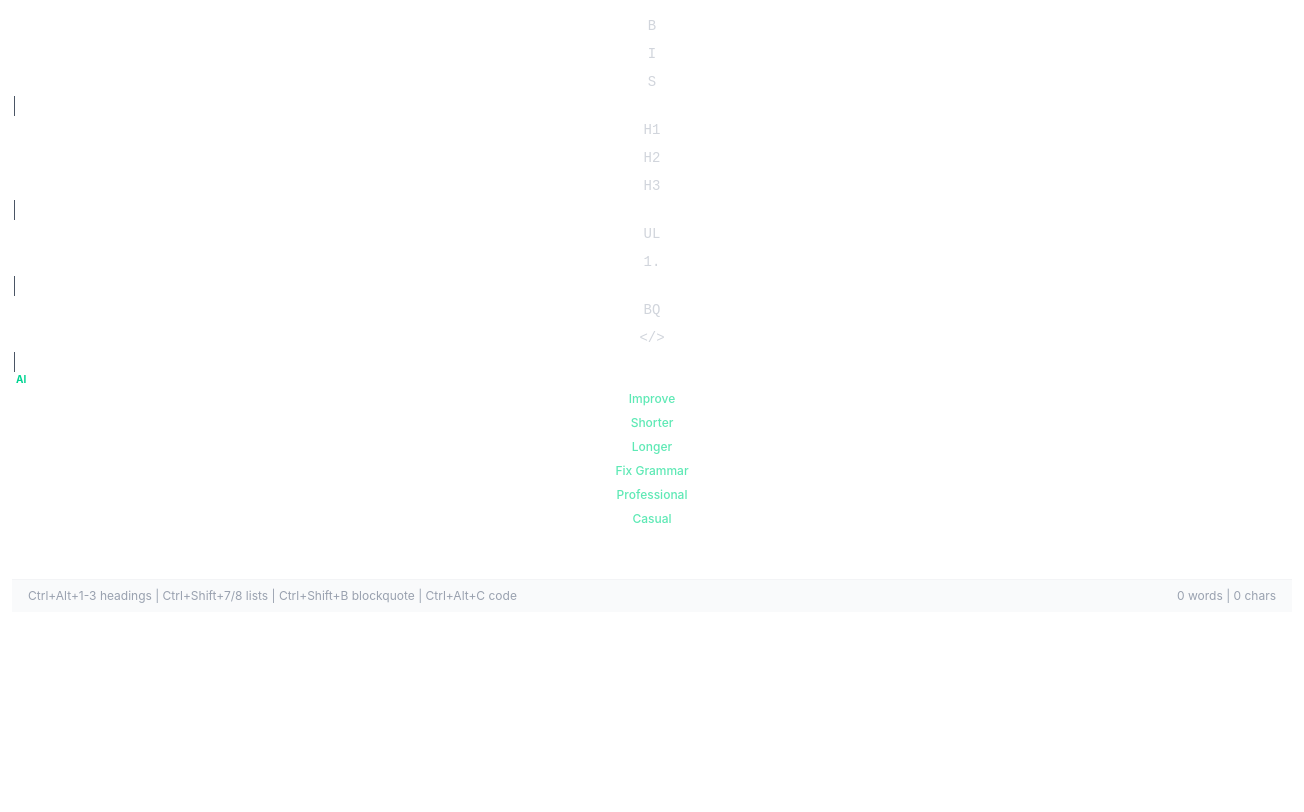
Scenario: PageEditor AI editing › shows the backend error when AI editing fails
The width and height of the screenshot is (1304, 812).
Click the button titled "Improve": (652, 399) [12,387,1292,411]
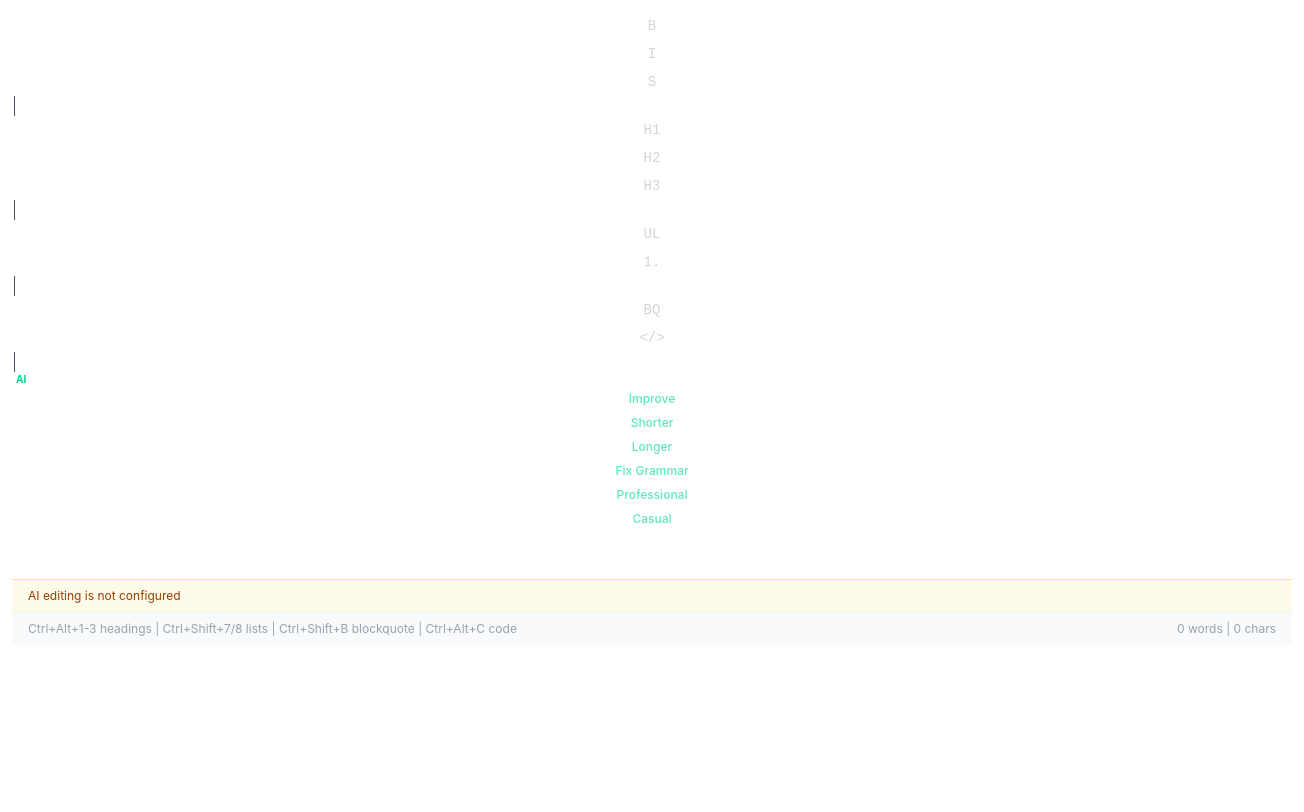
Check: the text "AI editing is not configured" is shown, box [12,579,1292,612]
